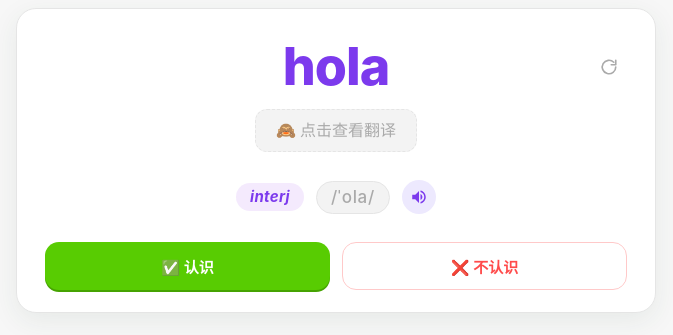
WordPopup › reveals translation and delays 0.5s when known/unknown is clicked while hidden
The width and height of the screenshot is (673, 335).
expect the element showing "🙈 点击查看翻译" is shown: met, box top-left (255, 109), bottom-right (417, 152)
// Click known button while hidden
Step 1. Click the button with class "act-known" → [188, 266], box top-left (45, 242), bottom-right (330, 290)
Wait 500 ms
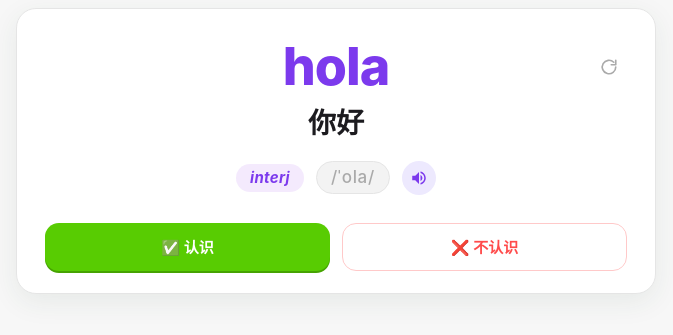
expect the text "你好" is shown: met, box top-left (308, 105), bottom-right (364, 143)
